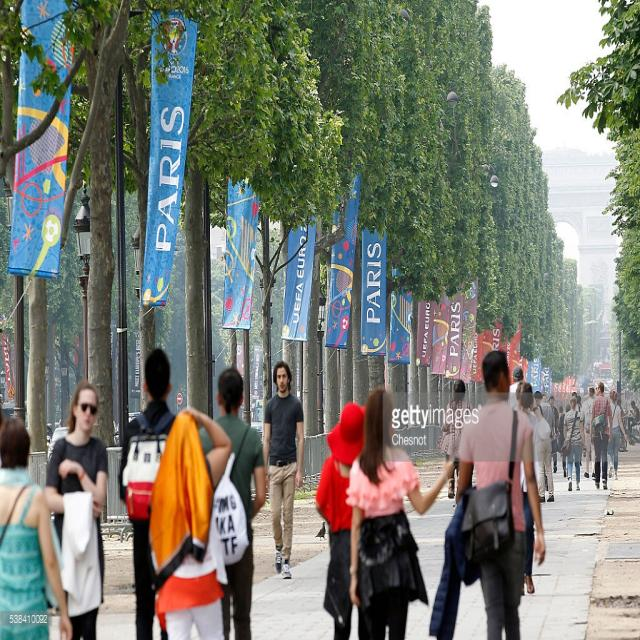body: (448, 349, 548, 640), (346, 384, 458, 639), (189, 364, 269, 639), (147, 404, 235, 639), (116, 344, 178, 640), (0, 415, 73, 639), (45, 381, 108, 640), (314, 399, 367, 640), (260, 358, 306, 582), (510, 380, 540, 596), (438, 378, 474, 501), (589, 382, 614, 490), (562, 394, 588, 493), (532, 389, 554, 496), (533, 391, 553, 504), (607, 387, 629, 481), (579, 386, 596, 482), (558, 401, 572, 478), (547, 395, 559, 474), (507, 365, 525, 411), (38, 418, 56, 453), (625, 399, 640, 438), (566, 389, 582, 405), (616, 396, 625, 423), (557, 404, 564, 426)
